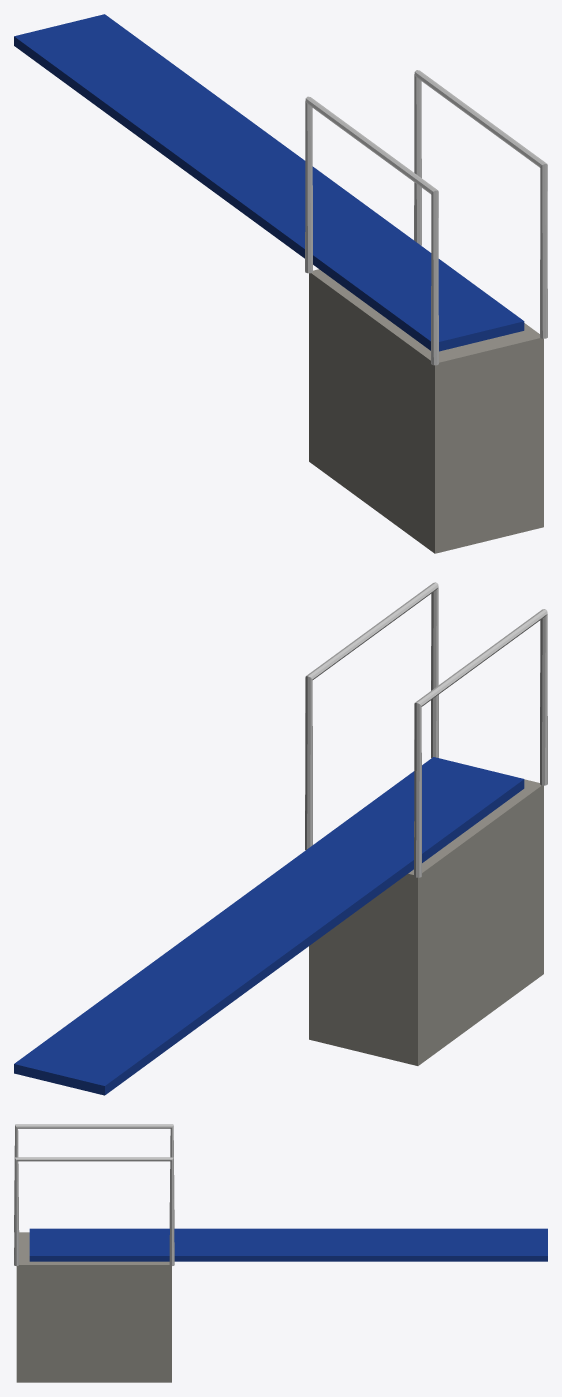
File: sport.pitch.diving_board.glb
3 renders of one model, top to bottom at view 1: azimuth 30°, elevation 25°; view 2: azimuth 150°, elevation 25°; view 3: azimuth 270°, elevation 25°, orthographic. The views are drawn at different scales.
Visible parts, largest first — view 1: main__concrete, main__plastic_blue, main__steel_stainless; view 2: main__plastic_blue, main__concrete, main__steel_stainless; view 3: main__concrete, main__plastic_blue, main__steel_stainless.
Part boxes in pixels (box(x1,y1,x2,y2)): main__concrete: box(309, 269, 543, 553); main__plastic_blue: box(14, 14, 524, 351); main__steel_stainless: box(305, 70, 547, 365); main__plastic_blue: box(14, 757, 524, 1095); main__concrete: box(309, 779, 543, 1065); main__steel_stainless: box(305, 582, 547, 877); main__concrete: box(16, 1232, 171, 1382); main__plastic_blue: box(29, 1228, 547, 1261); main__steel_stainless: box(14, 1124, 174, 1265).
Bounding box in the file's own units: 0.64 × 1.92 × 4.12.
